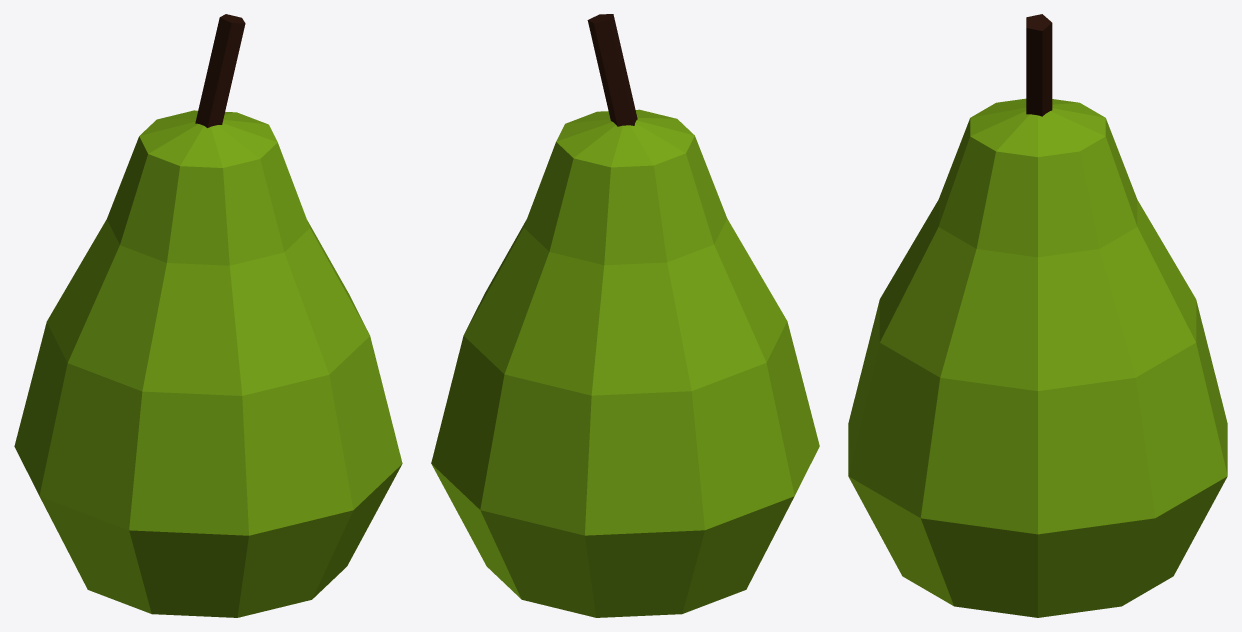
File: pear.obj
The picture shows the model from 3 angles, left to right: view 1: azimuth 30°, elevation 25°; view 2: azimuth 150°, elevation 25°; view 3: azimuth 270°, elevation 25°; orthographic projection. The views are drawn at different scales.
Visible parts, largest first — view 1: pear; view 2: pear; view 3: pear.
Boxes of the visible parts, box(x1,y1,x2,y2) form: pear: box(14, 14, 402, 617); pear: box(431, 14, 819, 617); pear: box(848, 14, 1227, 617).
Size of the model in its own units: 0.084 by 0.1328 by 0.0799.
